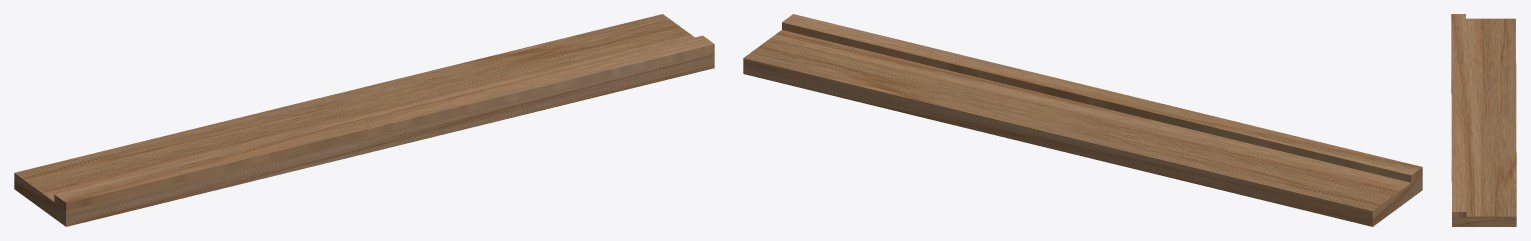
Rendered from estanteria cocina.fbx.
3 renders of one model, left to right at view 1: azimuth 30°, elevation 25°; view 2: azimuth 150°, elevation 25°; view 3: azimuth 270°, elevation 25°, orthographic. The views are drawn at different scales.
Visible parts, largest first — view 1: Cube.044; view 2: Cube.044; view 3: Cube.044.
Boxes of the visible parts, bbox=[...] form: Cube.044: bbox=[14, 14, 714, 226]; Cube.044: bbox=[743, 14, 1422, 226]; Cube.044: bbox=[1451, 14, 1516, 226].
Bounding box in the file's own units: 1032 × 36.42 × 144.
